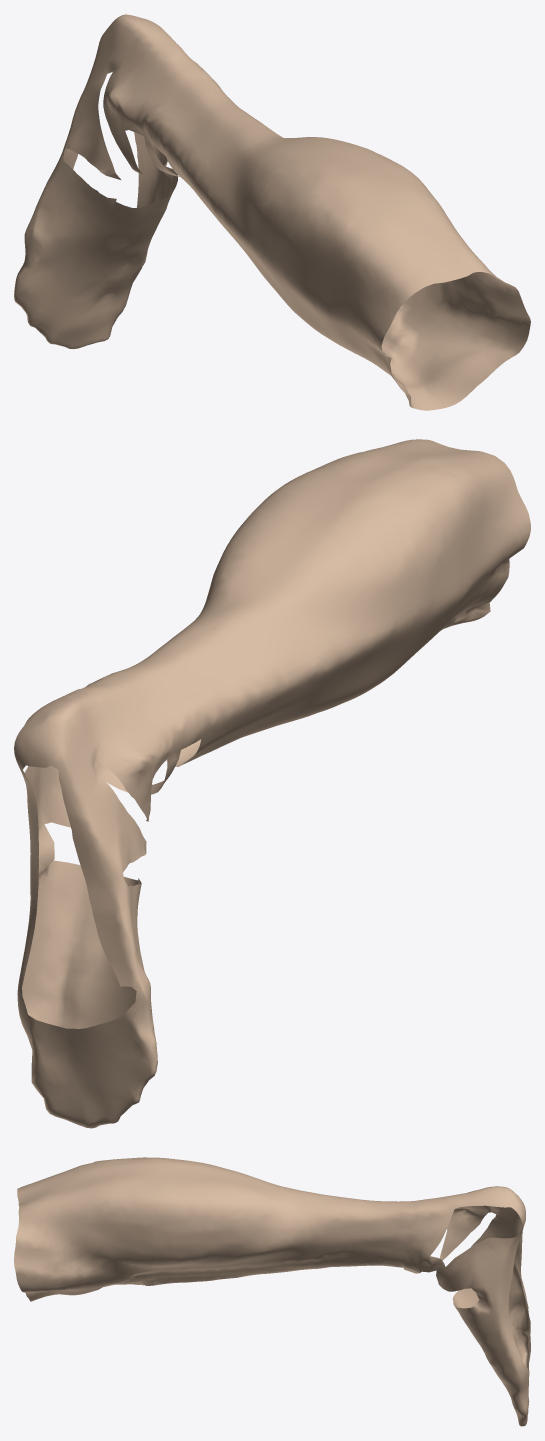
3 renders of one model, top to bottom at view 1: azimuth 30°, elevation 25°; view 2: azimuth 150°, elevation 25°; view 3: azimuth 270°, elevation 25°, orthographic. The views are drawn at different scales.
Visible parts, largest first — view 1: 右侧小腿筋膜; view 2: 右侧小腿筋膜; view 3: 右侧小腿筋膜.
Boxes of the visible parts, x1,y1,x2,y2 form: 右侧小腿筋膜: [14, 14, 530, 410]; 右侧小腿筋膜: [14, 439, 530, 1128]; 右侧小腿筋膜: [14, 1157, 530, 1426].
Bounding box in the file's own units: 0.1782 × 0.3603 × 0.6512.
